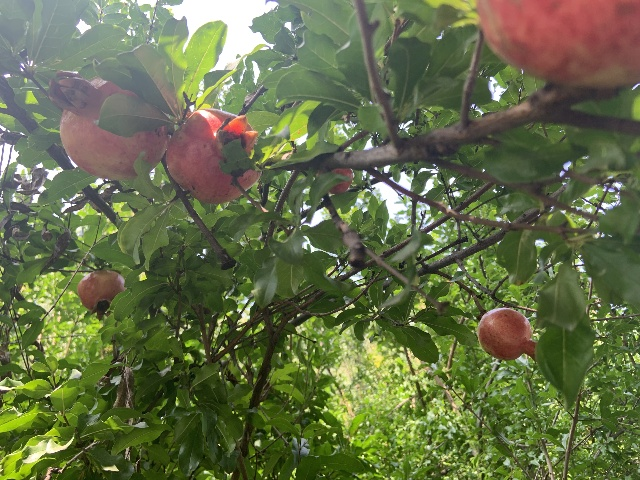ripe: (473, 0, 639, 90), (48, 71, 167, 180), (166, 109, 260, 204), (477, 307, 537, 360), (76, 270, 126, 317), (328, 168, 352, 193)
